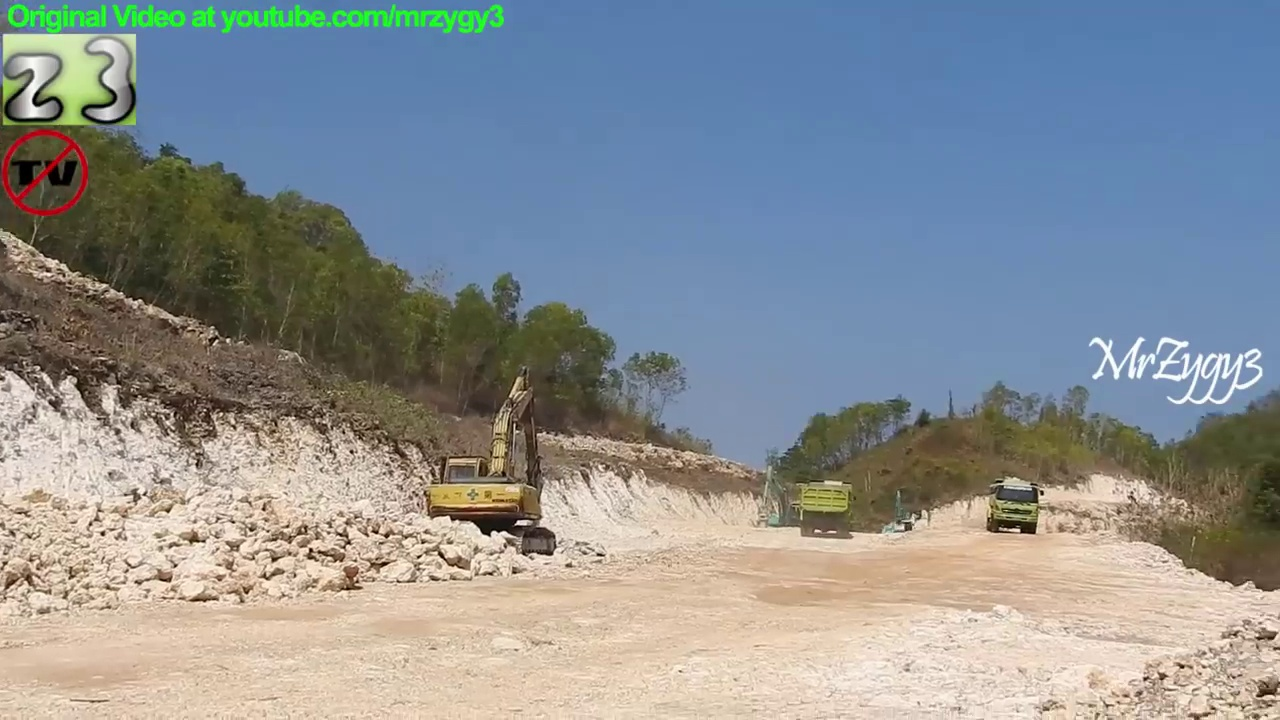excavator: (420, 364, 564, 562), (878, 482, 926, 540)
excavator breaker: (753, 461, 800, 531)
truck: (985, 474, 1047, 537), (802, 474, 857, 543)
